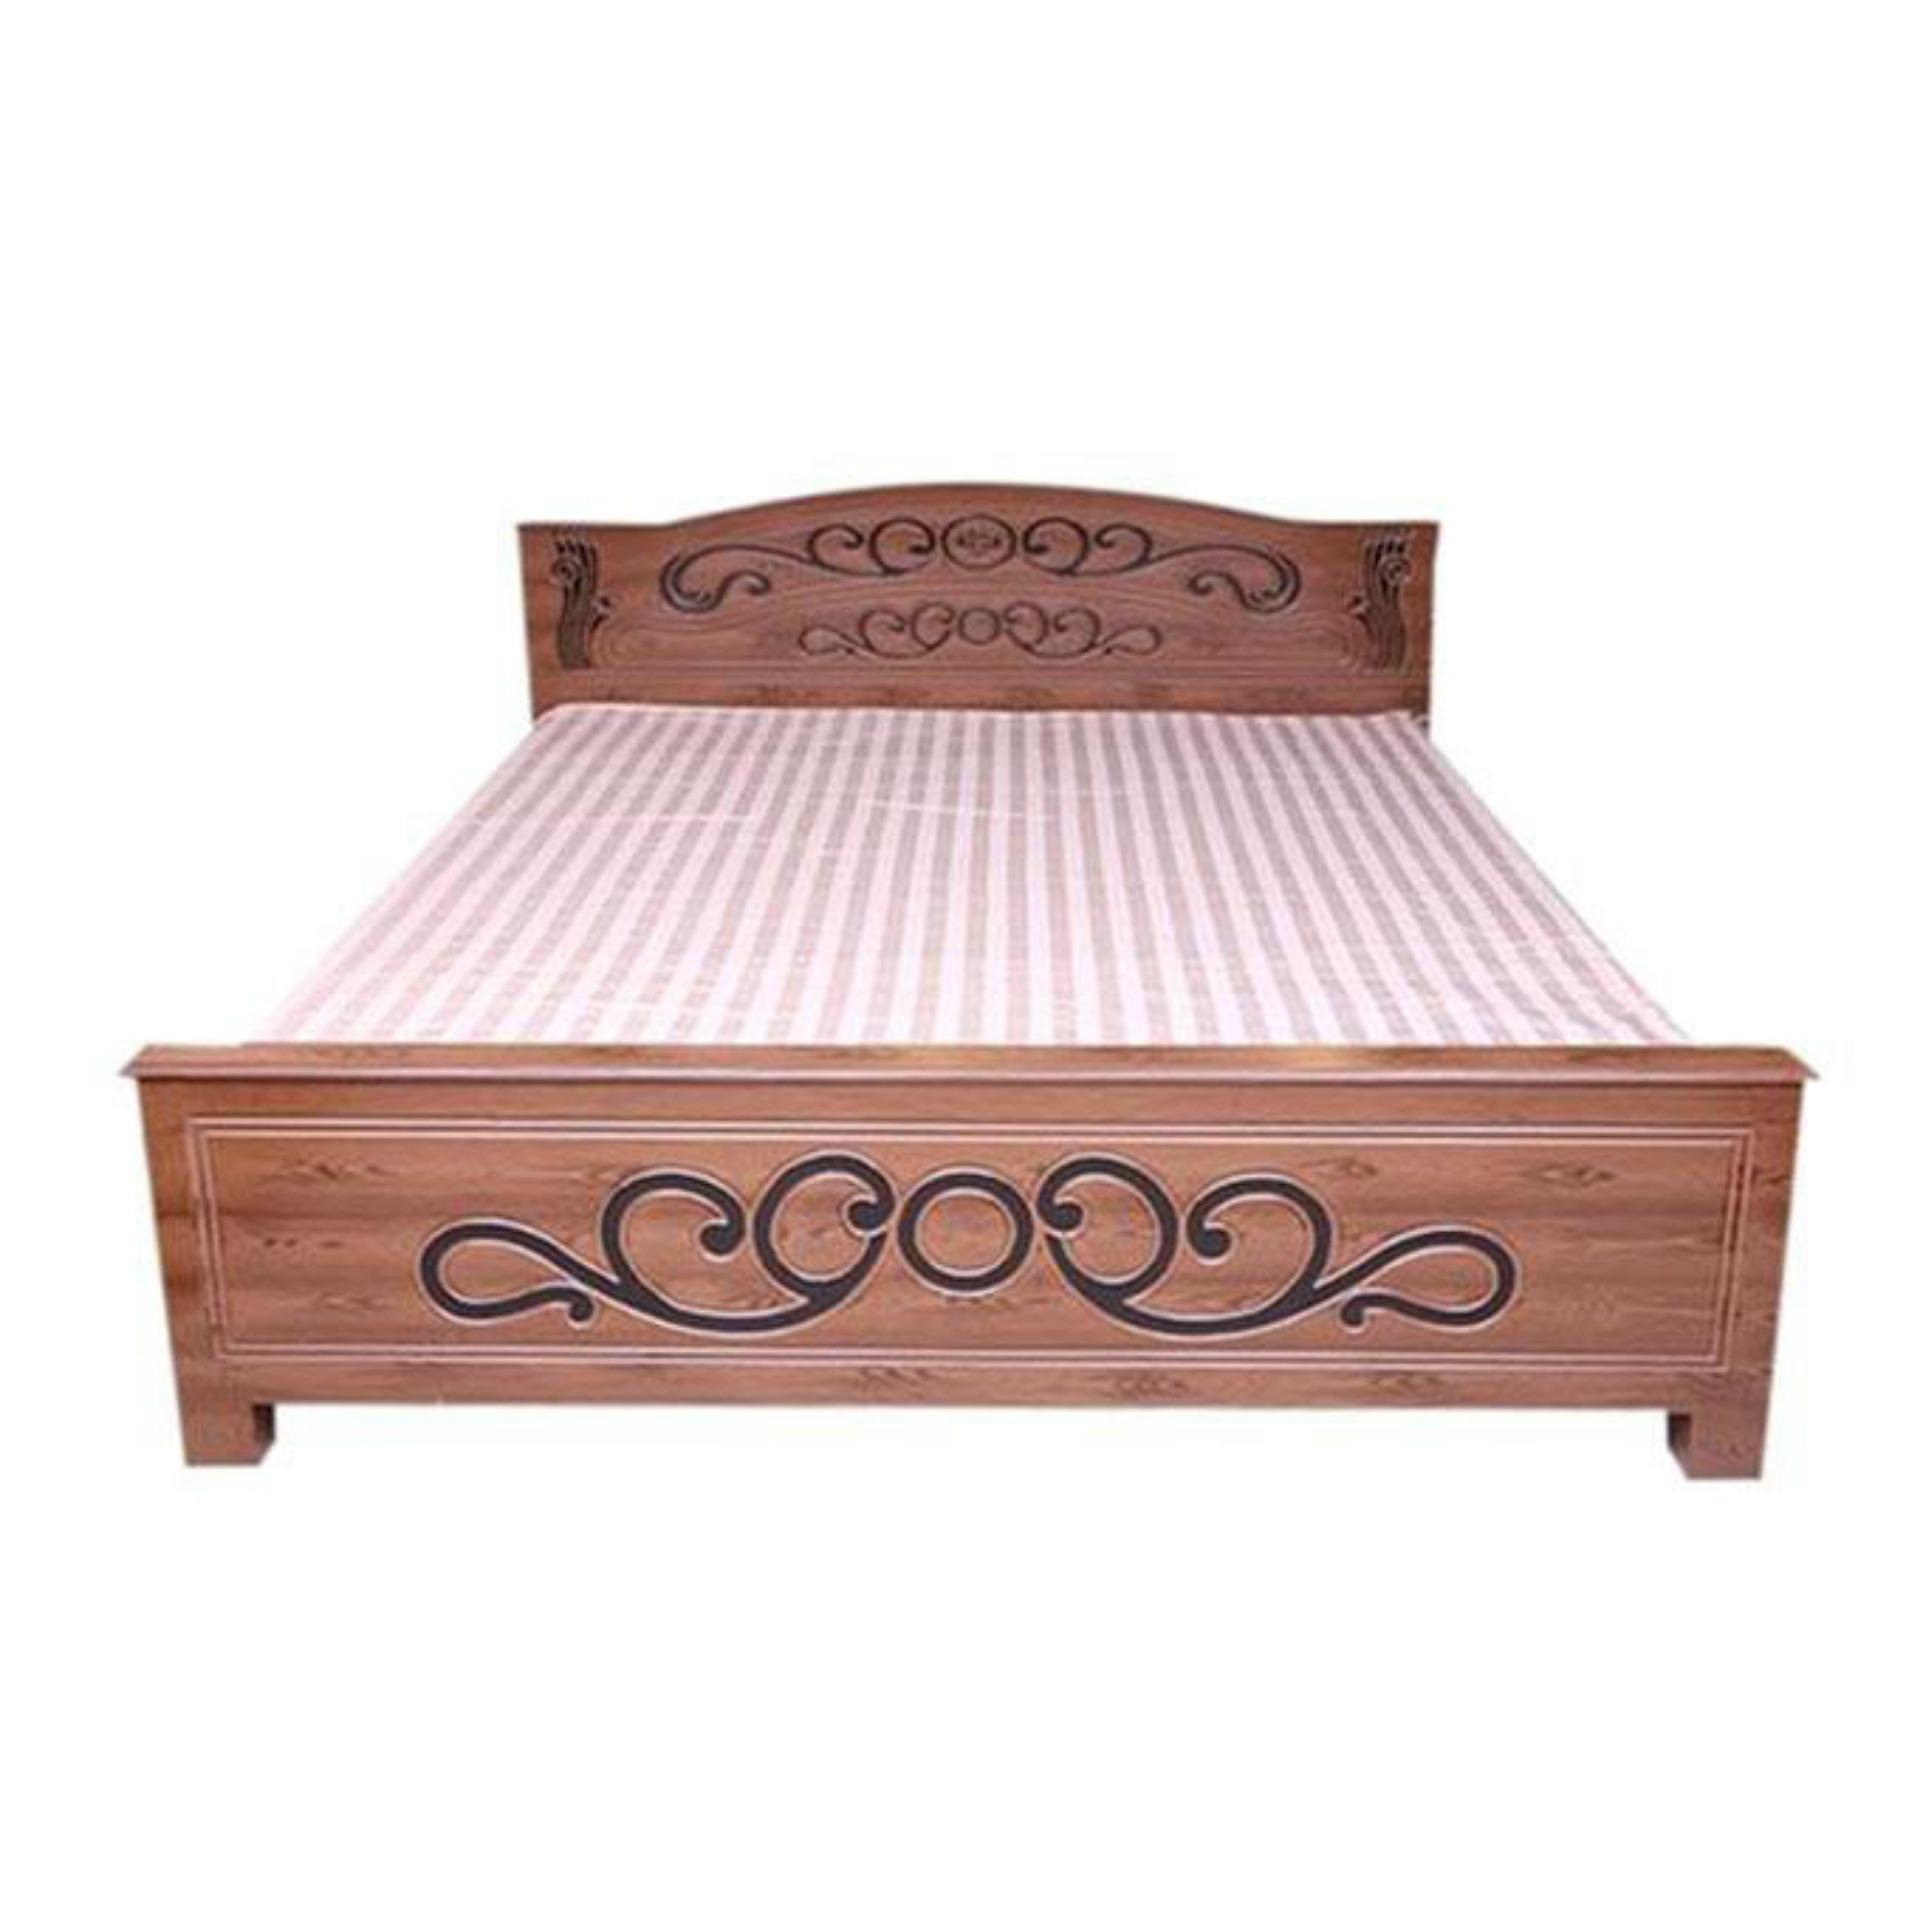bed: (350, 380, 1600, 1410)
